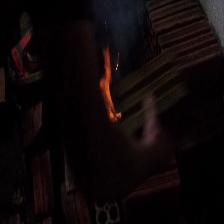fire: (96, 49, 122, 120)
smoke: (108, 3, 134, 38)
